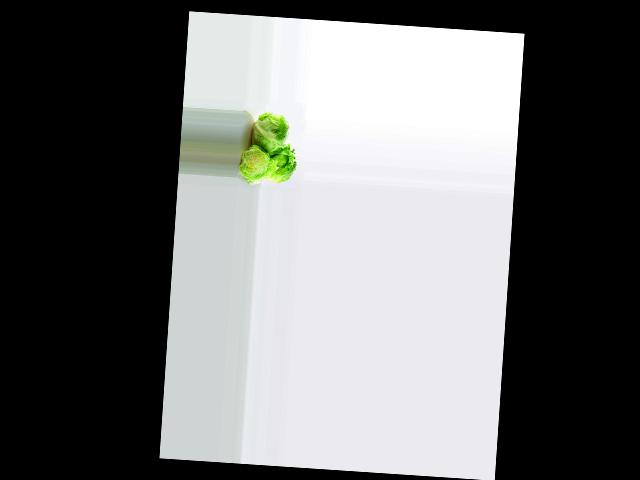lettuce: (264, 140, 301, 185)
